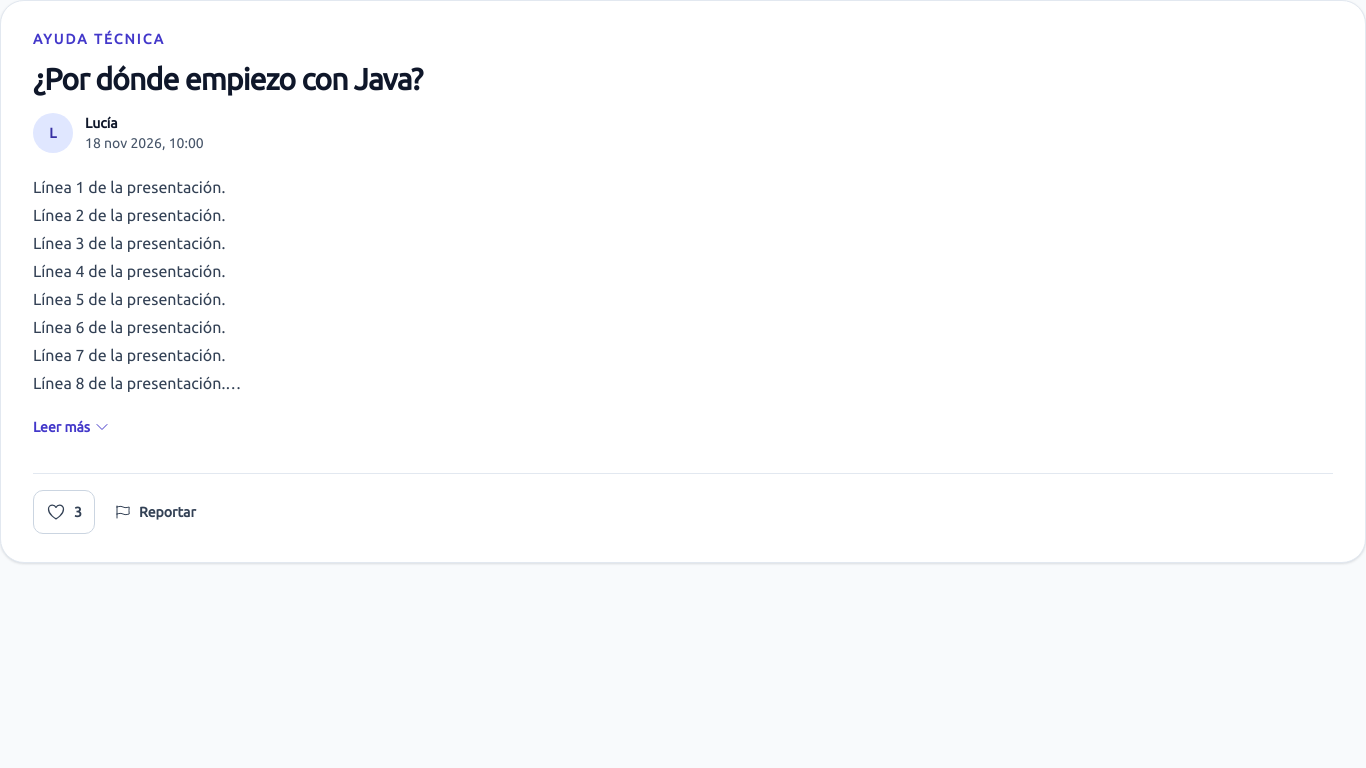
Test: DiscussionArticle › un texto largo sale plegado y «Leer más» lo abre entero
Click the button "Leer más" at [72, 427], box [33,405,110,449]
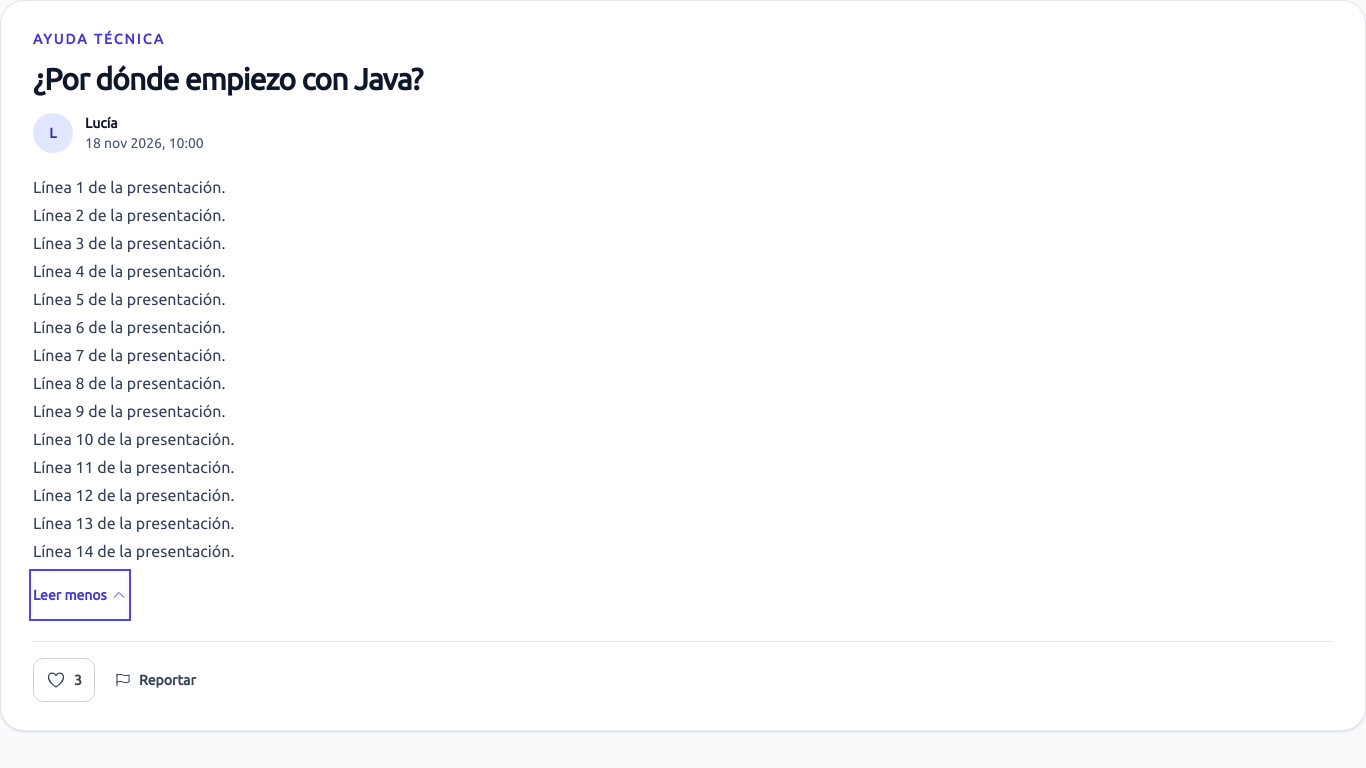
Result: the text "Línea 14" is shown at [33,178,234,560]
Result: the button "Leer menos" is expanded at [33,573,127,617]
